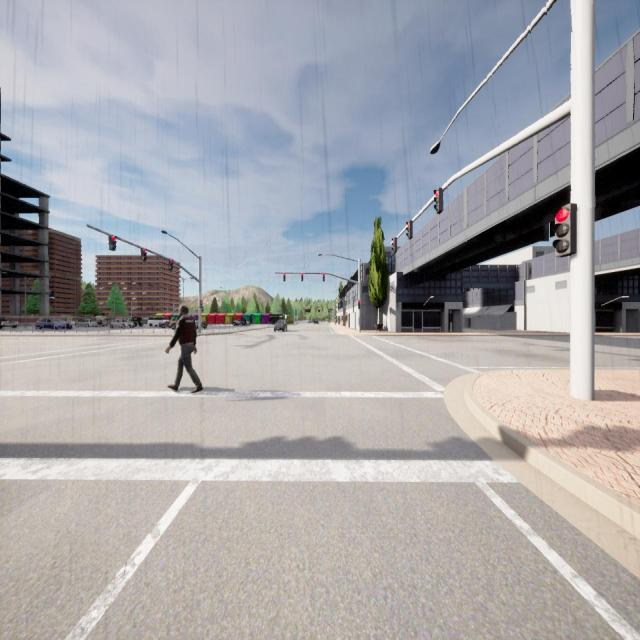Pedestrian: (160, 301, 210, 398)
Vehicle: (170, 314, 207, 330), (34, 316, 72, 330), (147, 316, 169, 328), (110, 318, 134, 329), (0, 316, 18, 330), (75, 317, 91, 328), (274, 319, 287, 332), (95, 315, 109, 327), (132, 317, 143, 328), (233, 317, 246, 326), (314, 320, 319, 325), (246, 320, 250, 326), (307, 320, 311, 324)
traffic_light: (553, 203, 577, 258), (434, 188, 443, 214), (406, 220, 413, 240), (109, 234, 116, 251), (392, 237, 397, 253), (141, 248, 147, 261), (168, 259, 174, 270), (301, 272, 304, 282), (200, 300, 203, 308), (323, 272, 325, 282), (358, 300, 360, 309), (283, 273, 285, 281)
